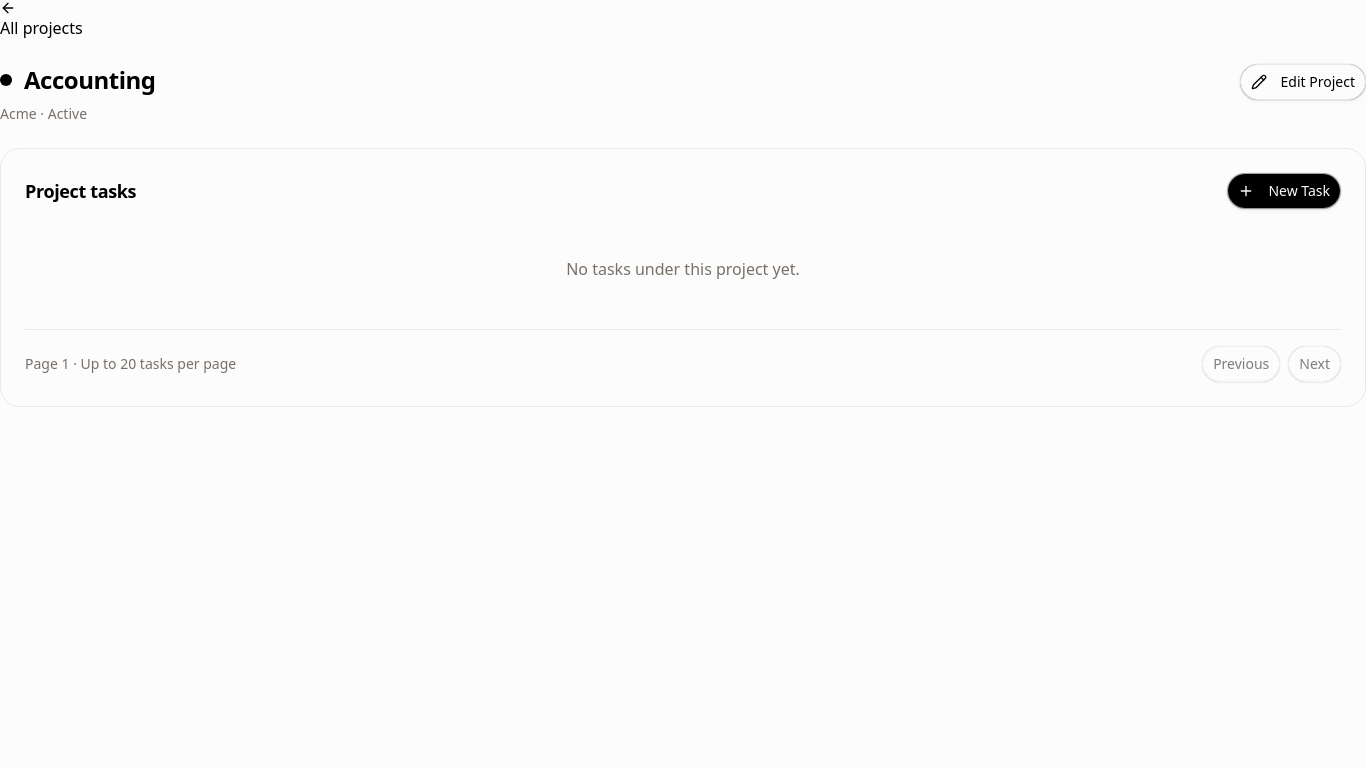
Scenario: project task page › opens the real create form and refreshes tasks after saving
The width and height of the screenshot is (1366, 768).
Expected: the text "No tasks under this project yet." is shown, [566, 258, 800, 280]
Click the button "New Task" at {"x": 1284, "y": 191}, box [1227, 173, 1341, 209]
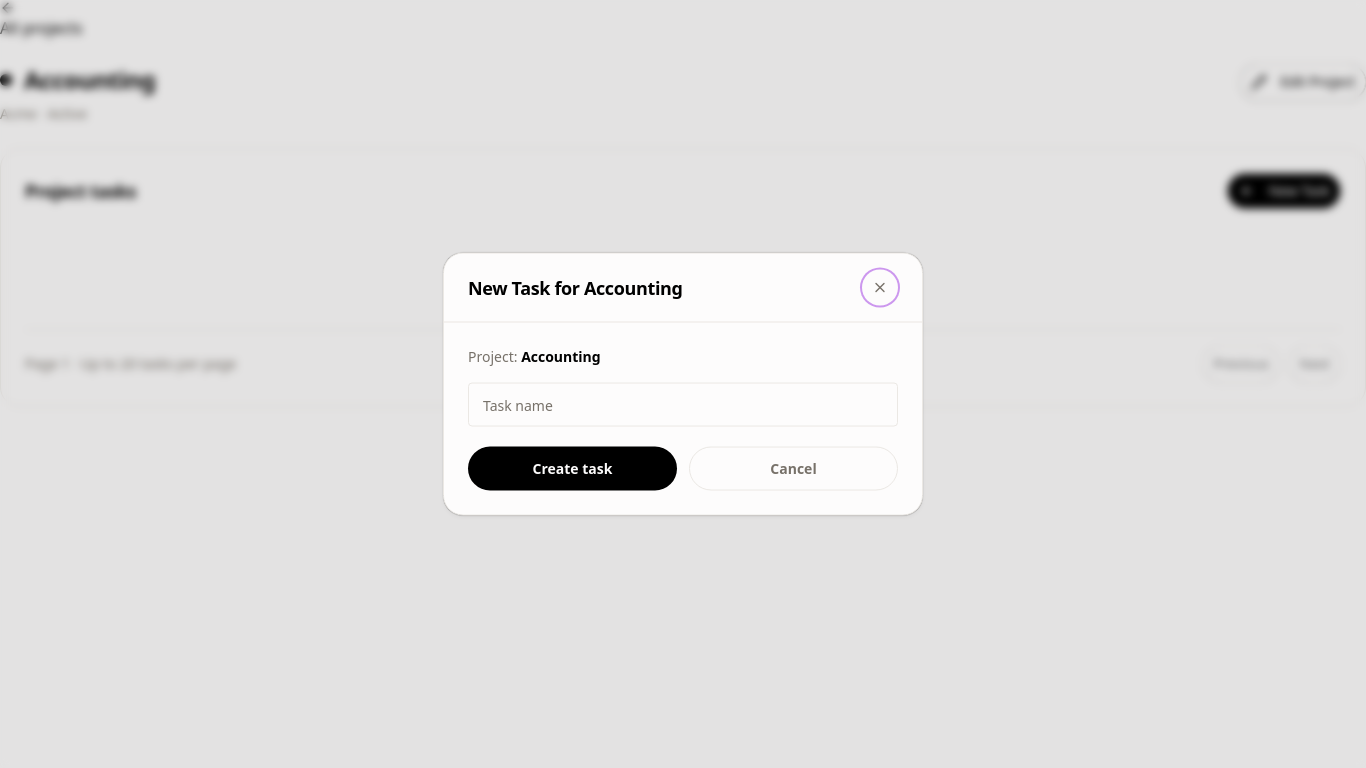
Type "Reconcile" into the field labelled "Task name" at {"x": 683, "y": 404}, box [468, 382, 898, 426]
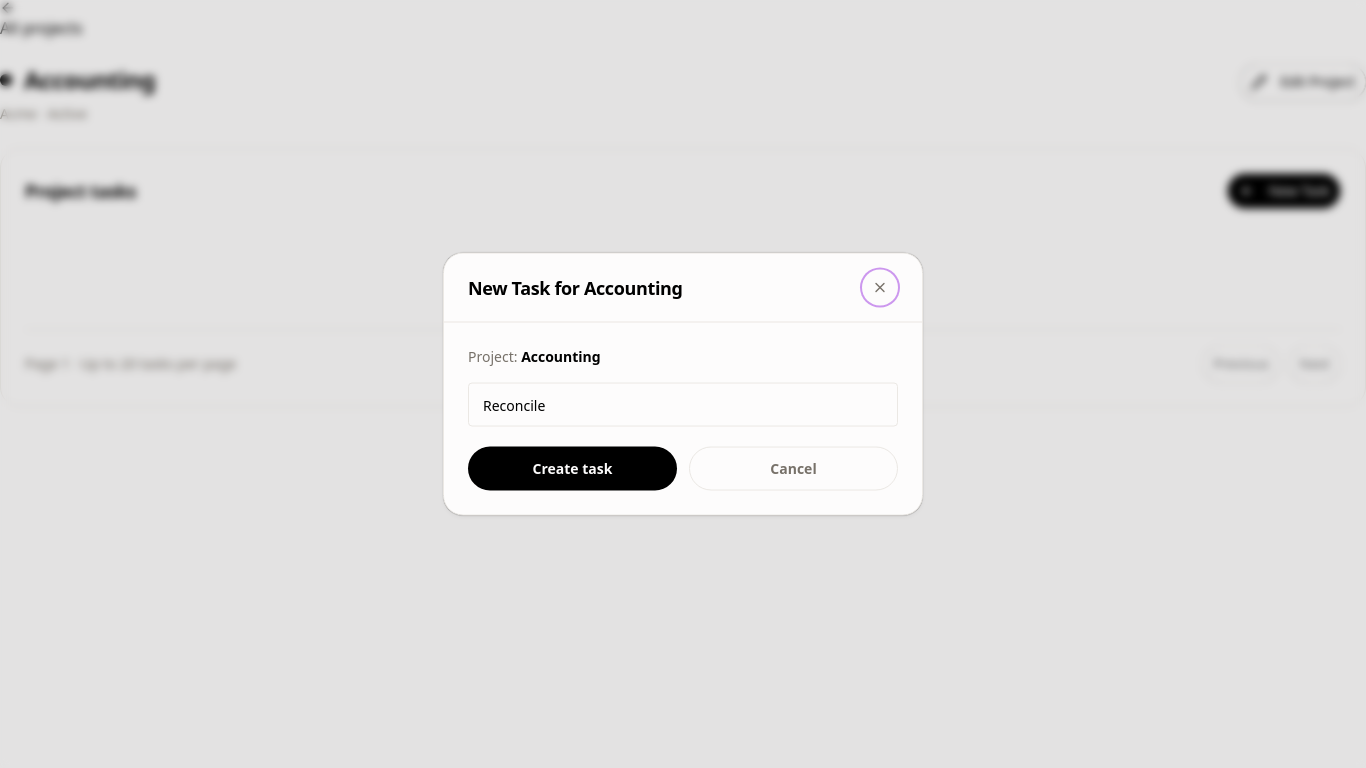
Click the button "Create task" at {"x": 572, "y": 468}, box [468, 446, 677, 490]
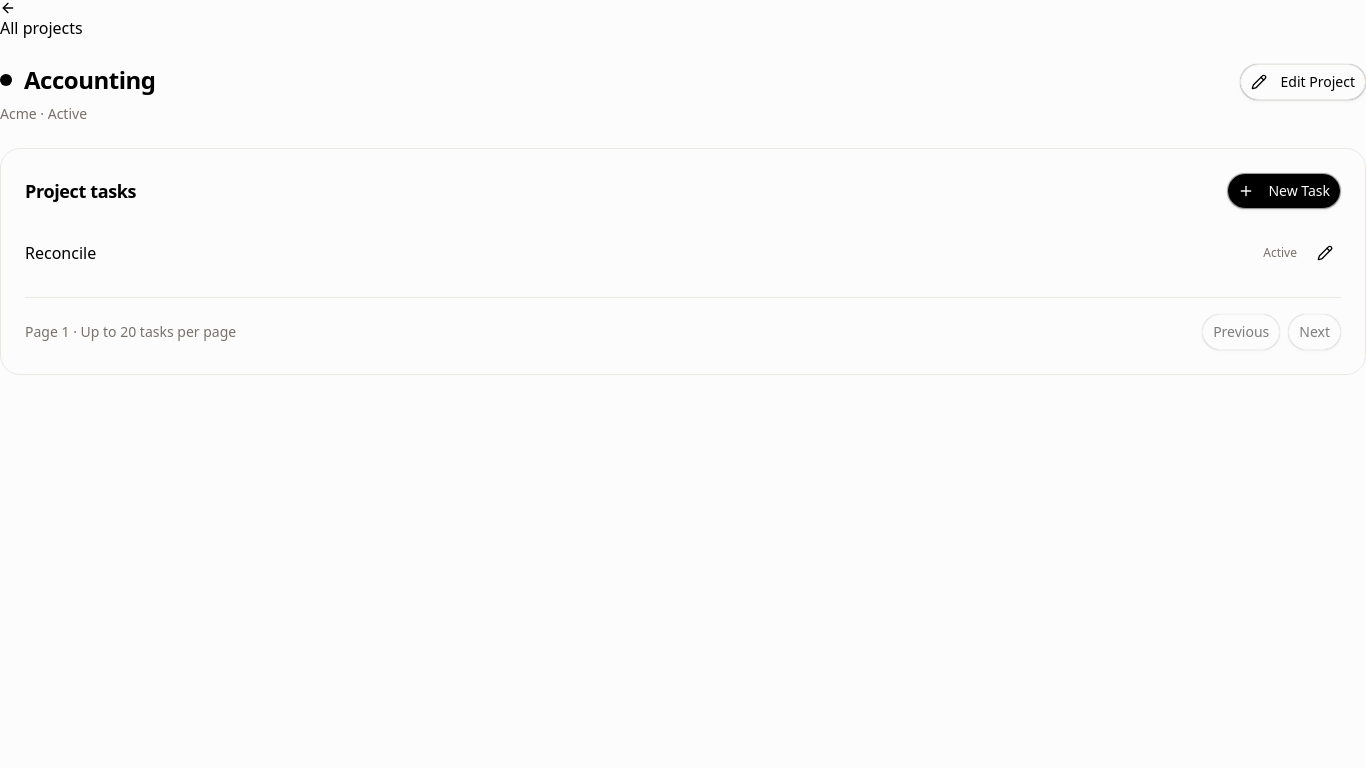
Expected: the field labelled "Task name" is not shown
Now the text "Reconcile" is shown, box [25, 242, 96, 264]
